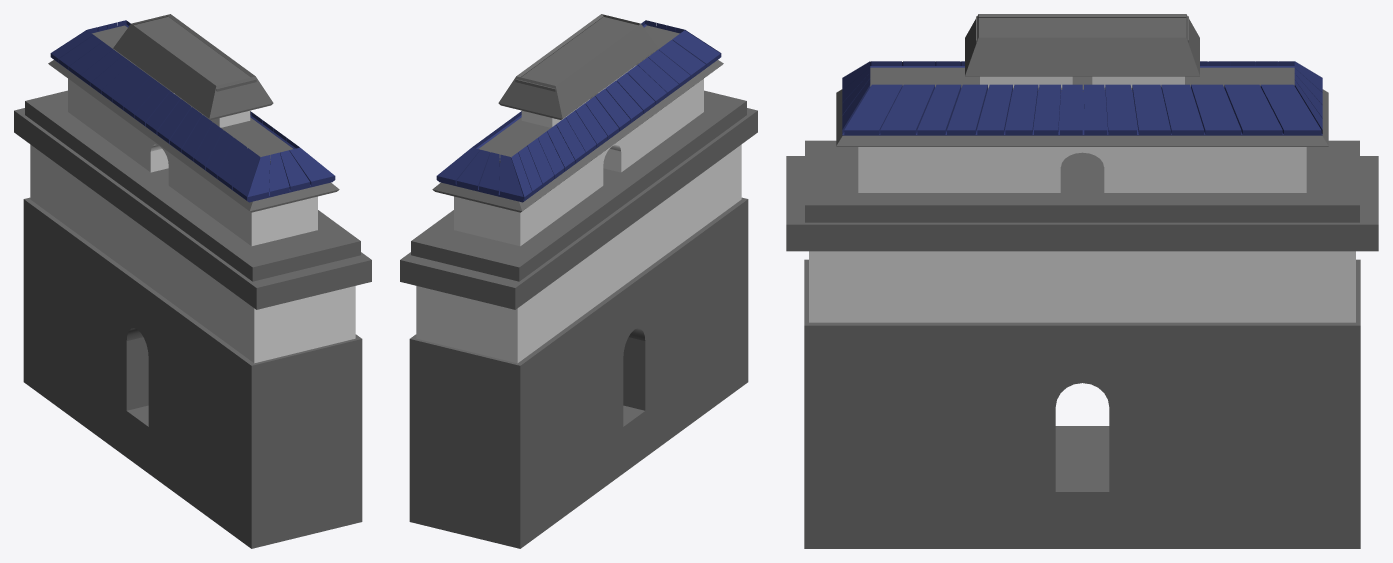
Rendered from mainGate.fbx.
3 views of the same model, side by side, from view 1: azimuth 30°, elevation 25°; view 2: azimuth 150°, elevation 25°; view 3: azimuth 270°, elevation 25° (orthographic). The views are drawn at different scales.
Parts seen in each view (by area): view 1: pCube64, pCube51, pCube57, pCube55, pCube54, pCube63, pCube58, pCube59, pCube56, pCube60, pCube65; view 2: pCube64, pCube51, pCube57, pCube55, pCube54, pCube63, pCube58, pCube59, pCube56, pCube60, pCube65; view 3: pCube64, pCube51, pCube57, pCube55, pCube54, pCube63, pCube58, pCube56, pCube59, pCube60, pCube65.
Boxes of the visible parts, x1,y1,x2,y2 form: pCube64: (23, 197, 362, 548); pCube51: (30, 144, 355, 363); pCube57: (50, 20, 335, 202); pCube55: (25, 90, 360, 281); pCube54: (14, 108, 371, 309); pCube63: (68, 79, 317, 246); pCube58: (113, 14, 273, 119); pCube59: (129, 17, 256, 91); pCube56: (48, 60, 339, 212); pCube60: (92, 25, 292, 162); pCube65: (135, 65, 250, 127); pCube64: (409, 197, 748, 548); pCube51: (416, 144, 741, 363); pCube57: (436, 20, 721, 202); pCube55: (411, 90, 746, 281); pCube54: (400, 108, 757, 309); pCube63: (454, 79, 703, 246); pCube58: (498, 14, 658, 119); pCube59: (515, 17, 642, 91); pCube56: (432, 60, 723, 212); pCube60: (479, 25, 679, 162); pCube65: (521, 65, 636, 127); pCube64: (804, 259, 1360, 548); pCube51: (809, 251, 1355, 322); pCube57: (842, 61, 1322, 135); pCube55: (805, 140, 1359, 222); pCube54: (786, 156, 1378, 251); pCube63: (858, 147, 1306, 192); pCube58: (965, 14, 1199, 76); pCube56: (836, 89, 1328, 146); pCube59: (976, 16, 1188, 42); pCube60: (870, 67, 1294, 91); pCube65: (980, 76, 1184, 87).
Size of the model in its own units: 93.28 by 311 by 340.
